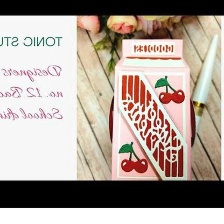carton: (109, 36, 193, 182)
